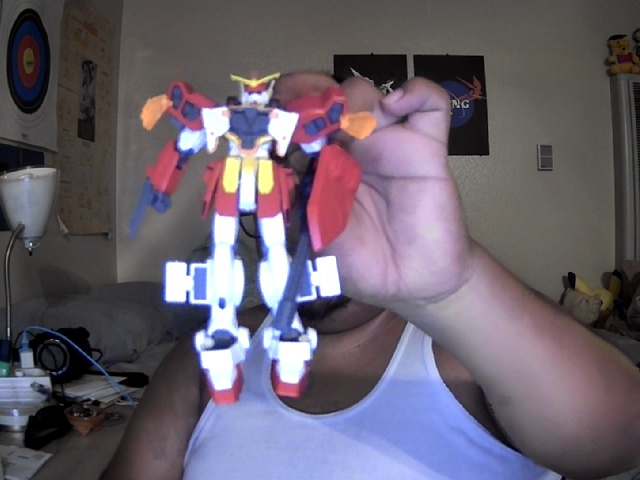Deatharms: (130, 73, 378, 407)
